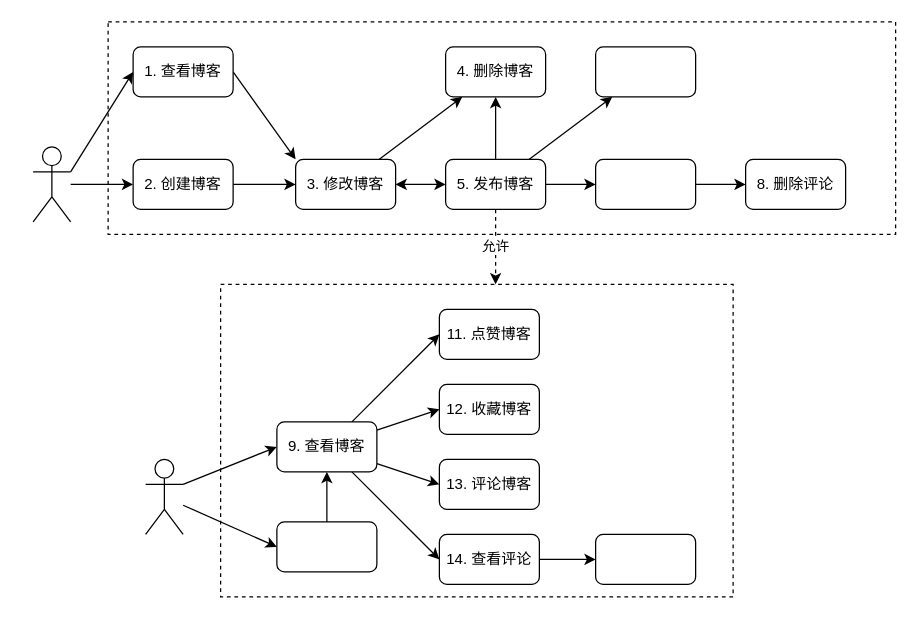
Image size: 918x619. Some labels were removed from this diagram. Here are the shapes that lost their labels. From the top down, the box of each, then its label:
(594, 46, 696, 97): 6. 取消发布博客
(32, 146, 71, 222): 博客作者
(594, 158, 696, 209): 7. 查看评论
(144, 458, 183, 534): 其他用户
(276, 521, 377, 572): 10. 查找博客
(594, 533, 696, 584): 15. 点赞评论
